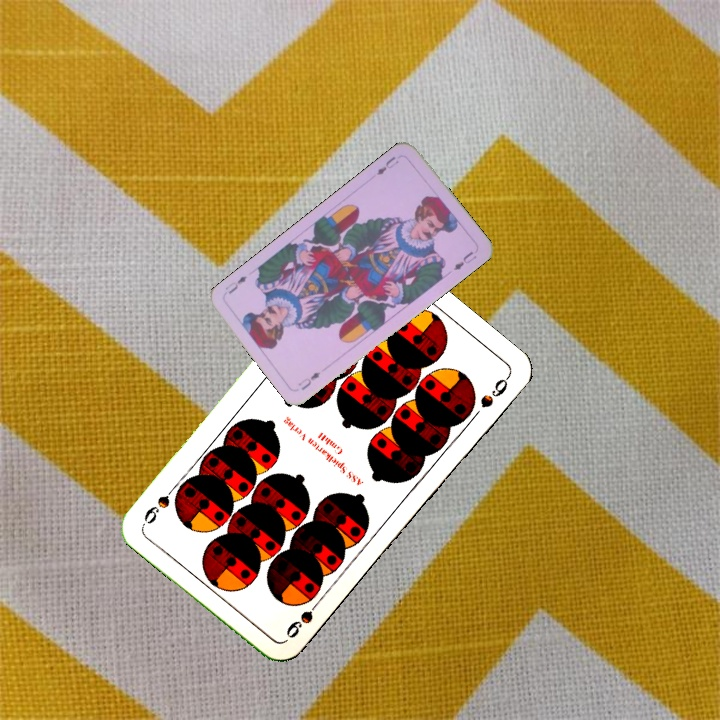EU: (372, 152, 402, 178), (294, 368, 323, 393)
S9: (282, 593, 325, 641)
